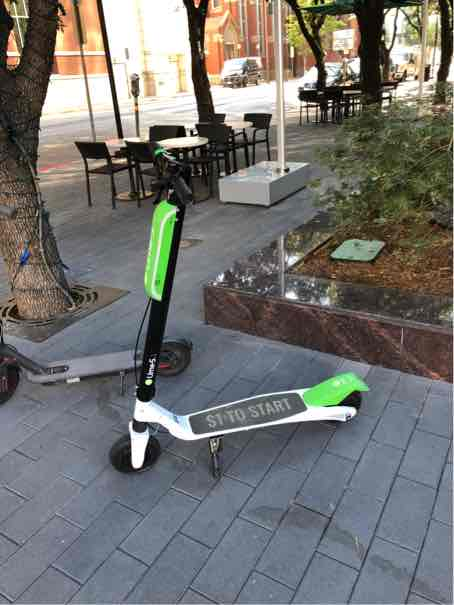scooter: (96, 128, 374, 483)
